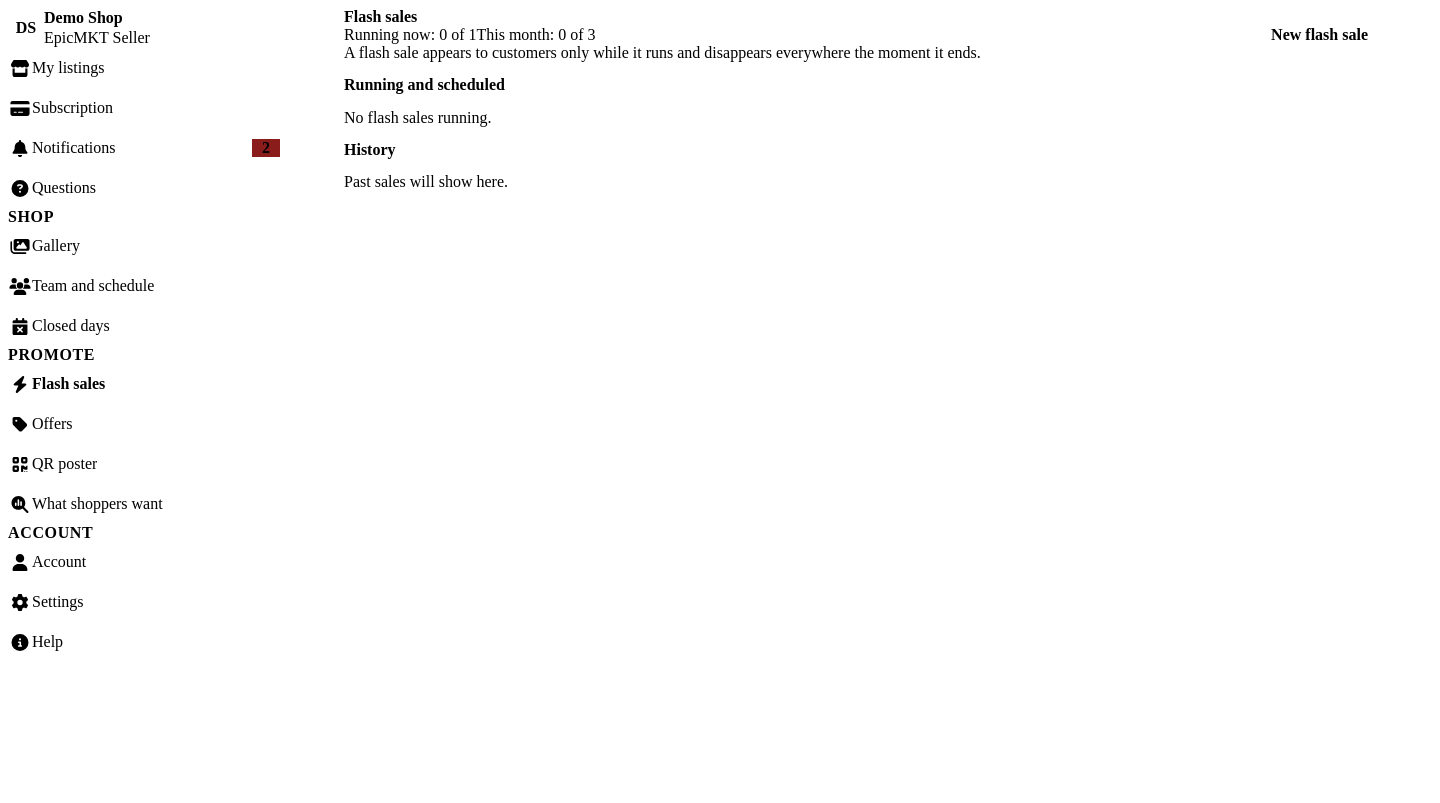
Test: seller flash sales › creates a sale with a quick duration and it appears with a live countdown
Click the button "New flash sale" at (1320, 35), box x1=1271 y1=26 x2=1368 y2=44
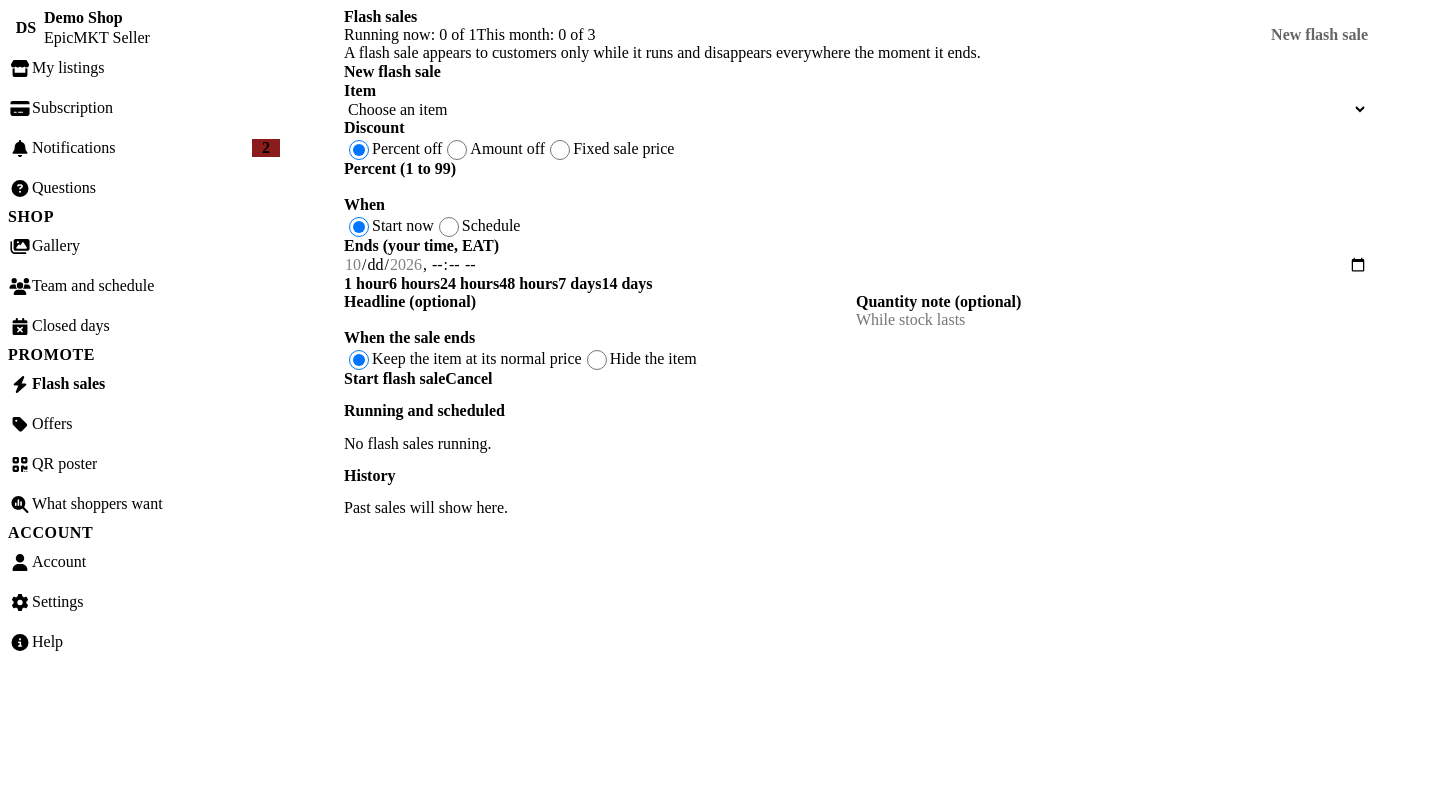
Select "Fade cut (KES 500)" in the dropdown labelled "Item" at (856, 110), box x1=344 y1=100 x2=1368 y2=119
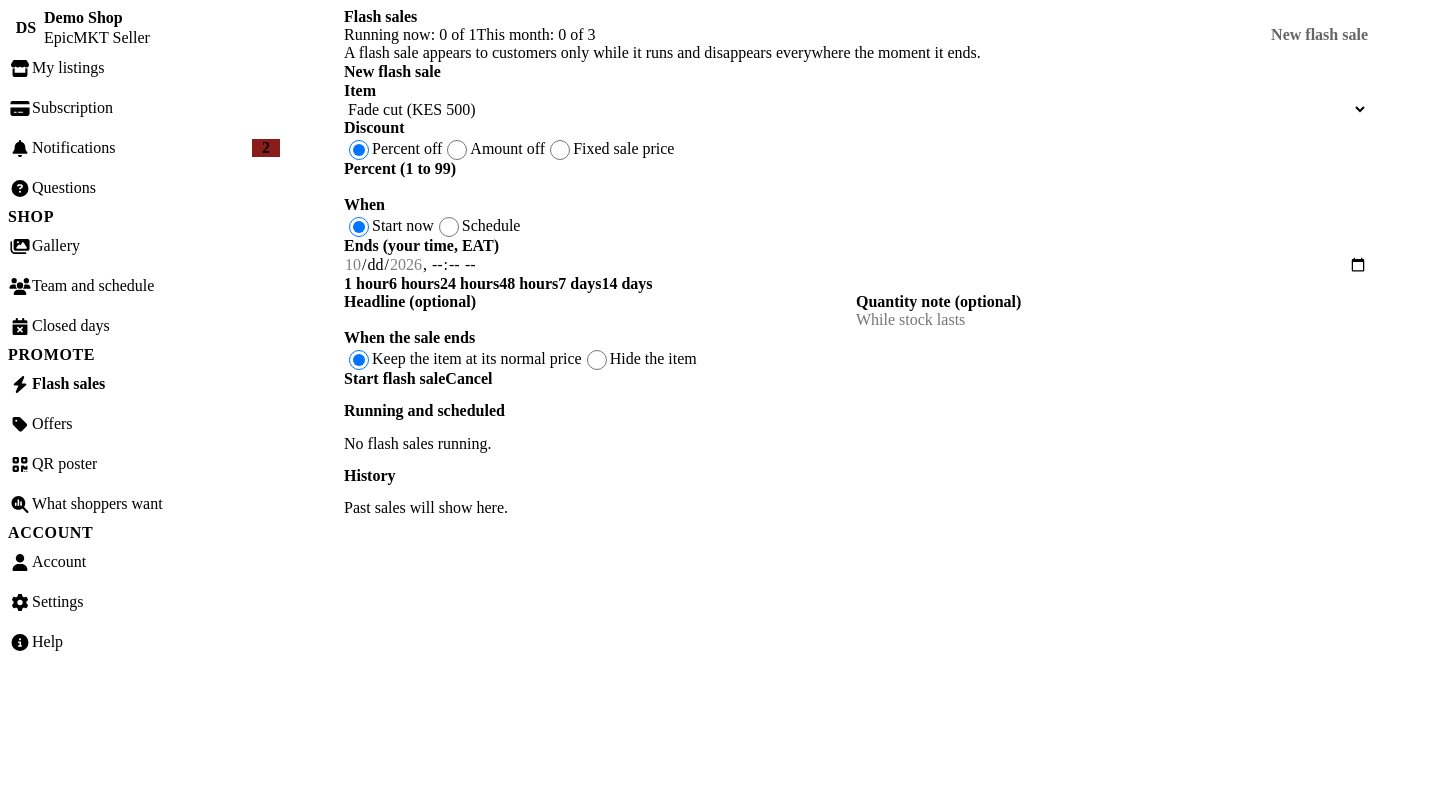
Type "20" into the number field labelled "Percent (1 to 99)" at (856, 187), box x1=344 y1=178 x2=1368 y2=196
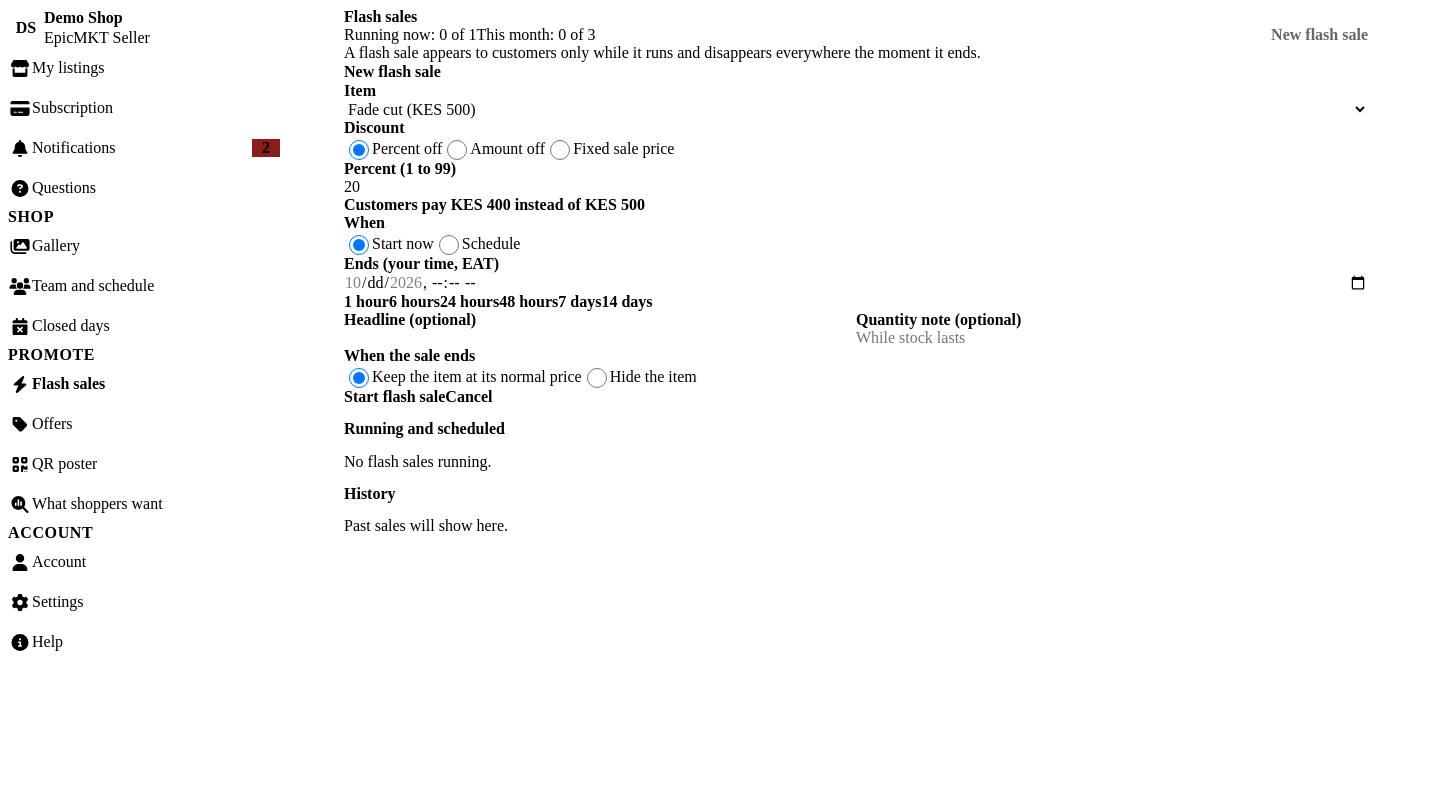
Now the text with test id "fs-preview" reads "Customers pay KES 400 instead of KES 500", box x1=344 y1=196 x2=645 y2=213
Click the button "6 hours" at (414, 302), box x1=389 y1=293 x2=440 y2=311
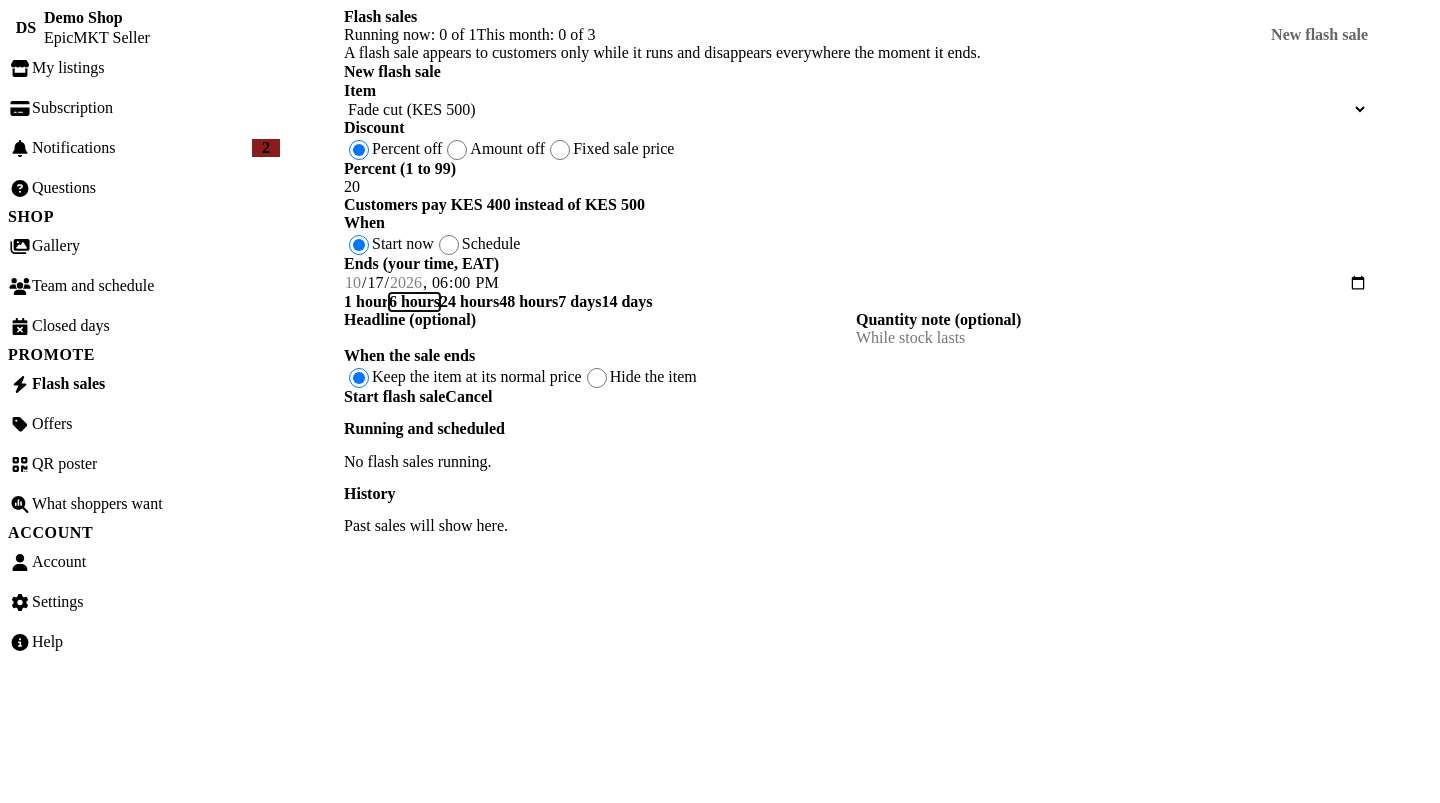
Type "Weekend fade deal" into the field labelled "Headline (optional)" at (600, 338), box x1=344 y1=329 x2=856 y2=347
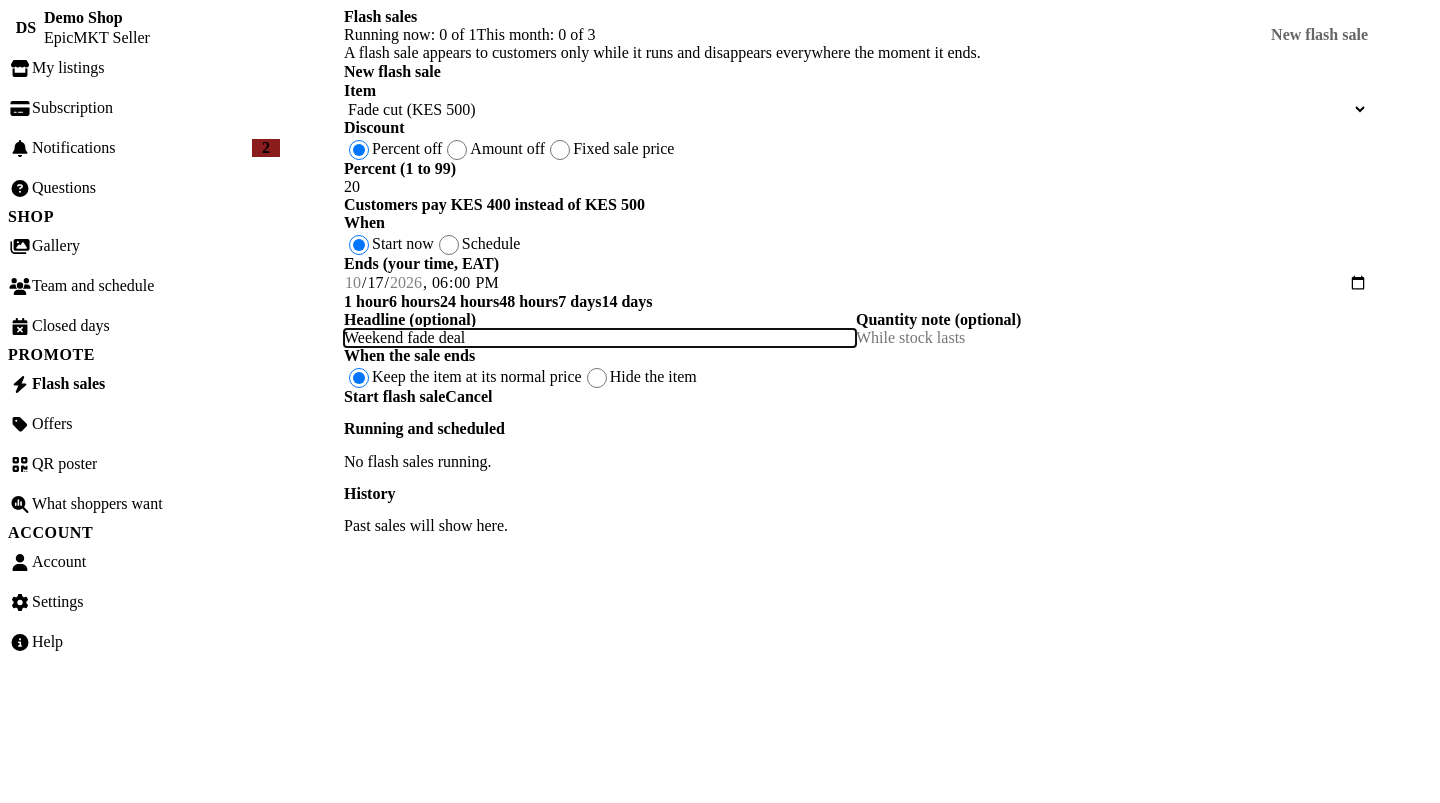
Click the button "Start flash sale" at (395, 397), box x1=344 y1=388 x2=445 y2=406
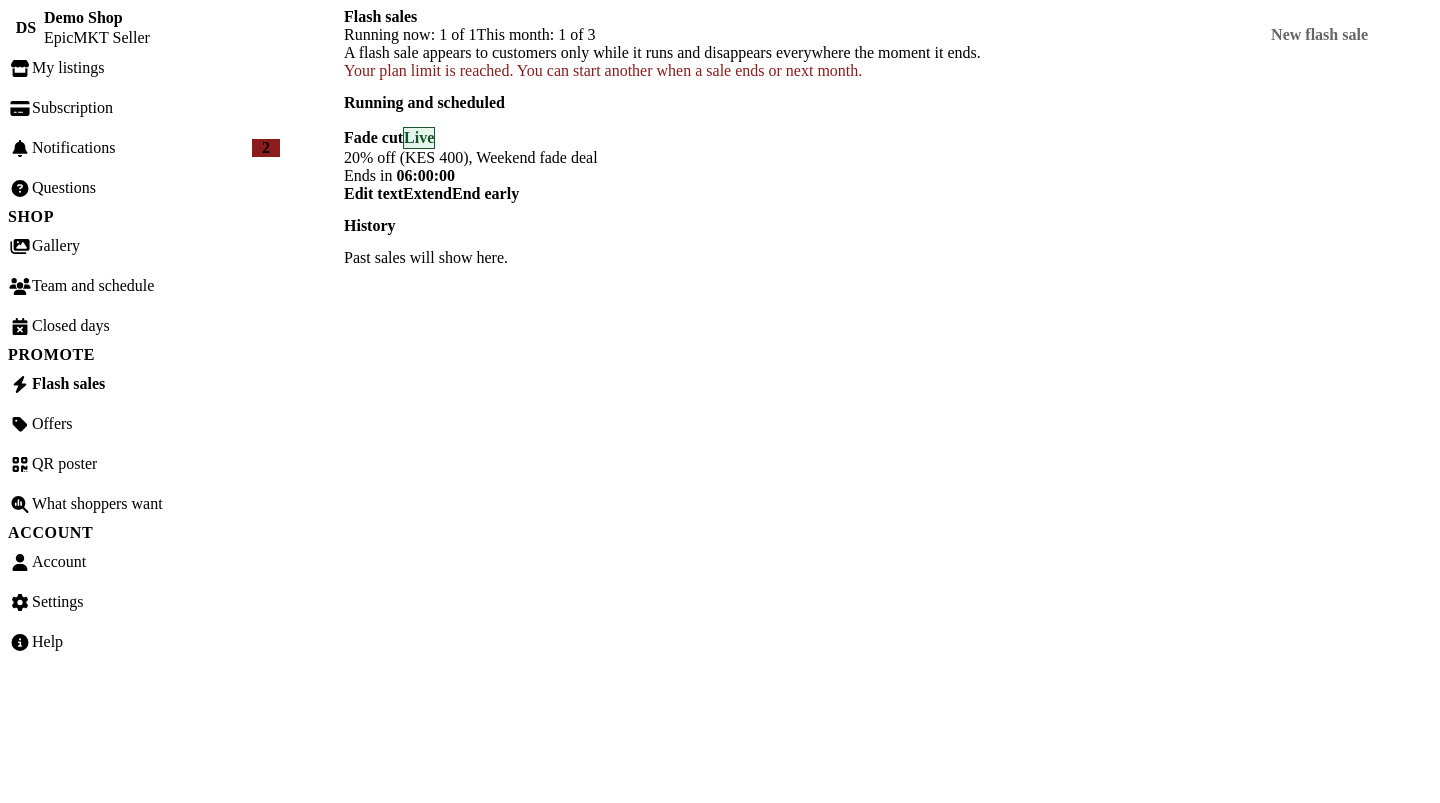
Now the number of list items with test id "flash-sale" is 1, box x1=344 y1=126 x2=598 y2=202
Now the list item with test id "flash-sale" shows "Fade cut", box x1=344 y1=128 x2=403 y2=146
Now the list item with test id "flash-sale" shows "Live", box x1=404 y1=128 x2=434 y2=146
